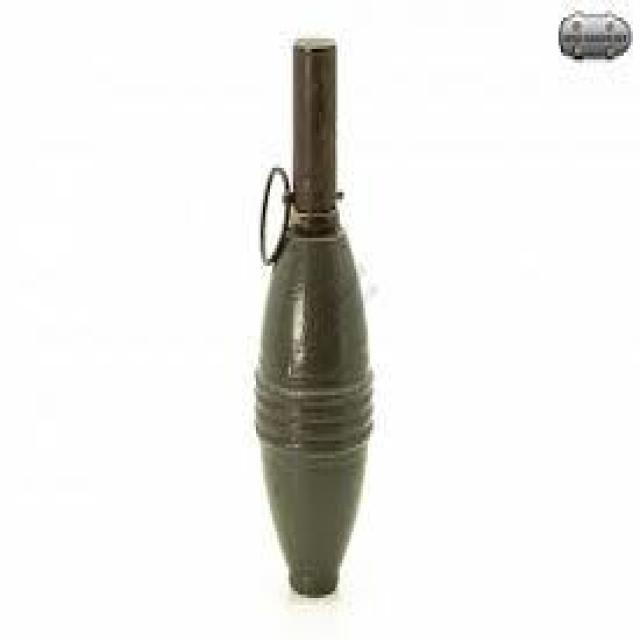grenade: (243, 37, 378, 600)
